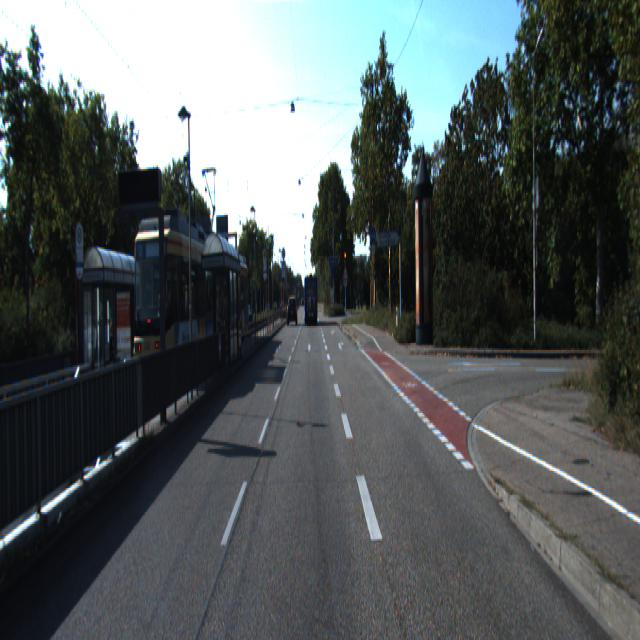Car: (124, 212, 234, 392), (207, 250, 253, 349), (304, 273, 318, 324), (287, 296, 297, 324)
